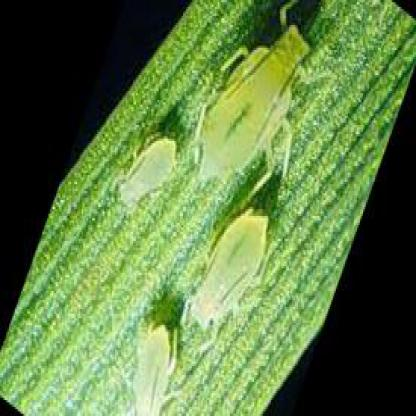schizaphis graminum: (200, 26, 312, 243), (189, 217, 267, 349), (118, 138, 176, 211)
